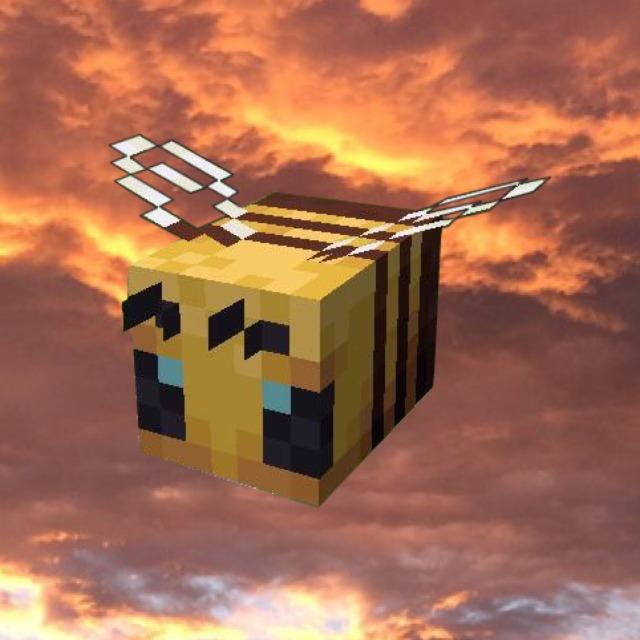Bee: (106, 128, 552, 512)
